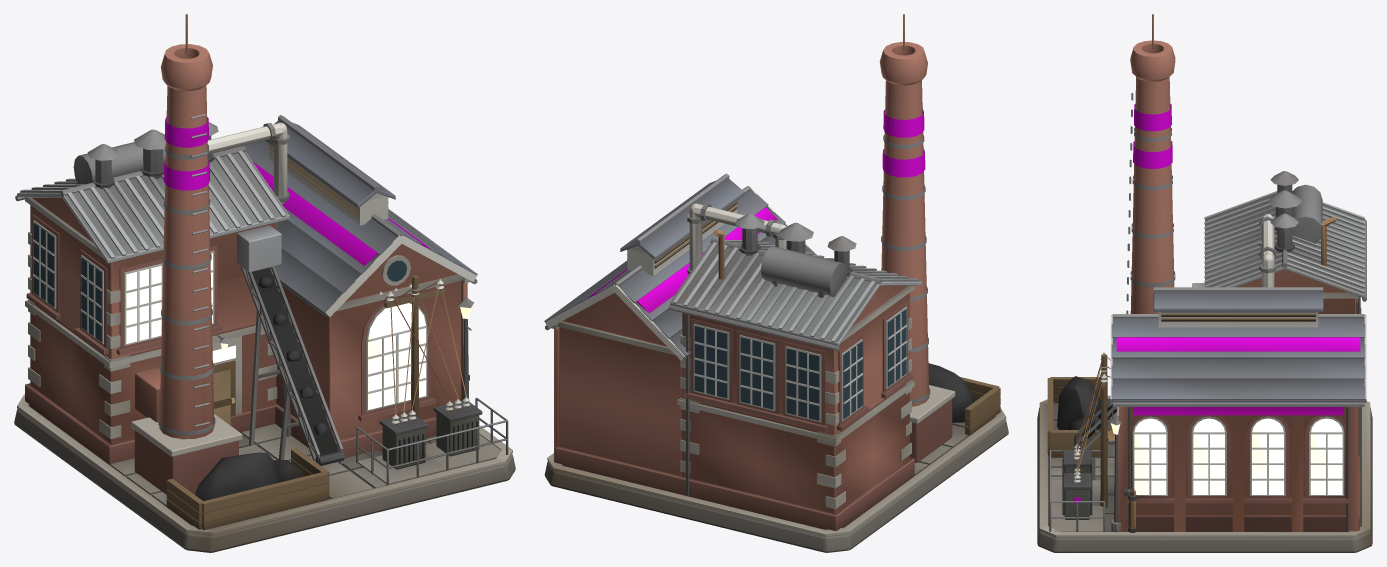
Rendered from power_plant_industrial.glb.
3 renders of one model, left to right at view 1: azimuth 30°, elevation 25°; view 2: azimuth 150°, elevation 25°; view 3: azimuth 270°, elevation 25°, orthographic. The views are drawn at different scales.
Parts seen in each view (by area): view 1: Body; view 2: Body; view 3: Body.
Boxes of the visible parts, bbox=[...] form: Body: bbox=[14, 14, 515, 552]; Body: bbox=[544, 14, 1008, 552]; Body: bbox=[1037, 14, 1372, 552].
Size of the model in its own units: 3.99 by 5.55 by 3.99.
Materials: 1 (1 with a texture image).
